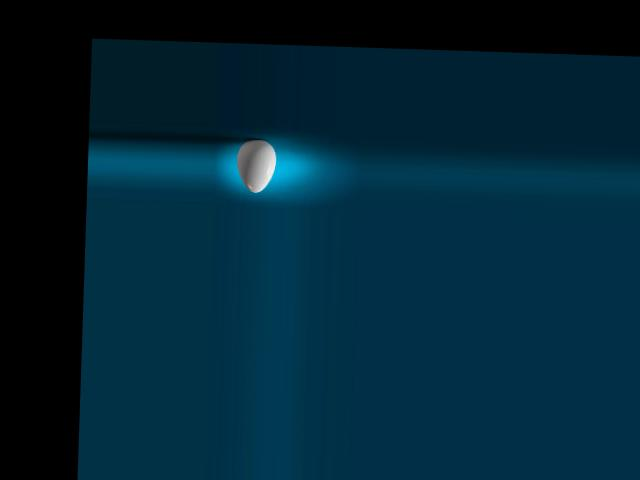egg: (235, 138, 276, 192)
